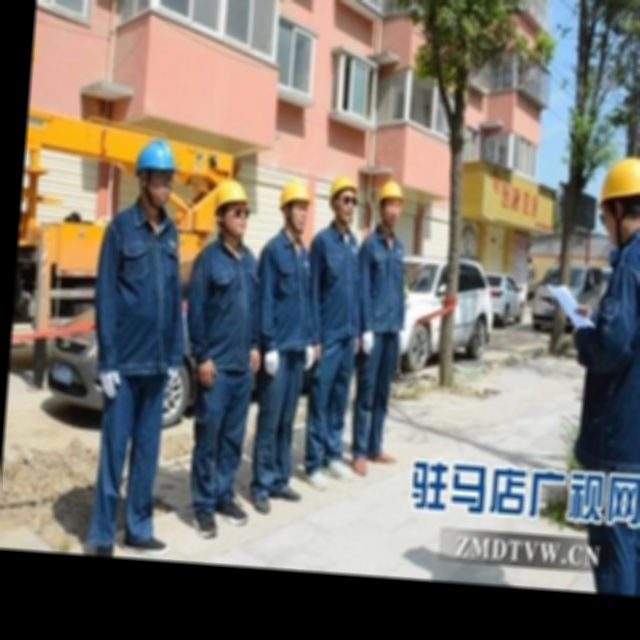Sin_Chaleco: (91, 206, 191, 379), (179, 234, 265, 373)
